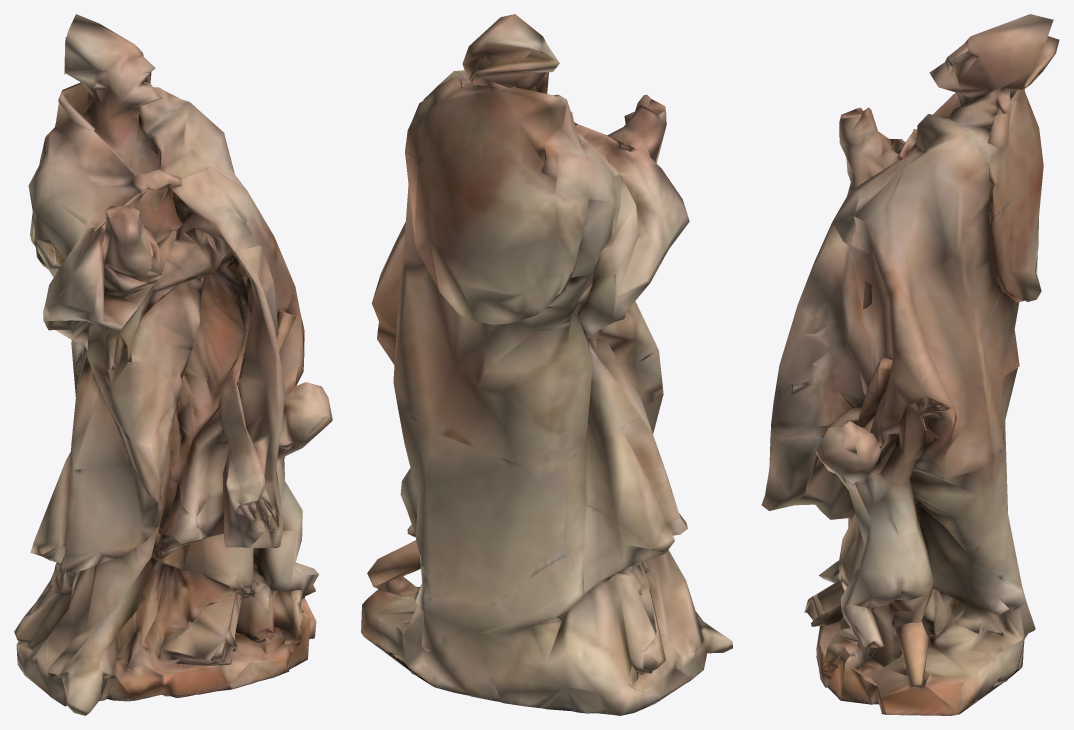
Rendered from cma-puget-terracotta-bozzetto-sauli.lod1.glb.
3 views of the same model, side by side, from view 1: azimuth 30°, elevation 25°; view 2: azimuth 150°, elevation 25°; view 3: azimuth 270°, elevation 25° (orthographic). The views are drawn at different scales.
Visible parts, largest first — view 1: 1964.36_study_for_the_blessed_alessandro_sauli; view 2: 1964.36_study_for_the_blessed_alessandro_sauli; view 3: 1964.36_study_for_the_blessed_alessandro_sauli.
Boxes of the visible parts, x1,y1,x2,y2 form: 1964.36_study_for_the_blessed_alessandro_sauli: [14, 14, 332, 715]; 1964.36_study_for_the_blessed_alessandro_sauli: [361, 14, 732, 715]; 1964.36_study_for_the_blessed_alessandro_sauli: [761, 14, 1059, 715].
Bounding box in the file's own units: 0.344 × 0.6939 × 0.3041.
Materials: 1 (1 with a texture image).
